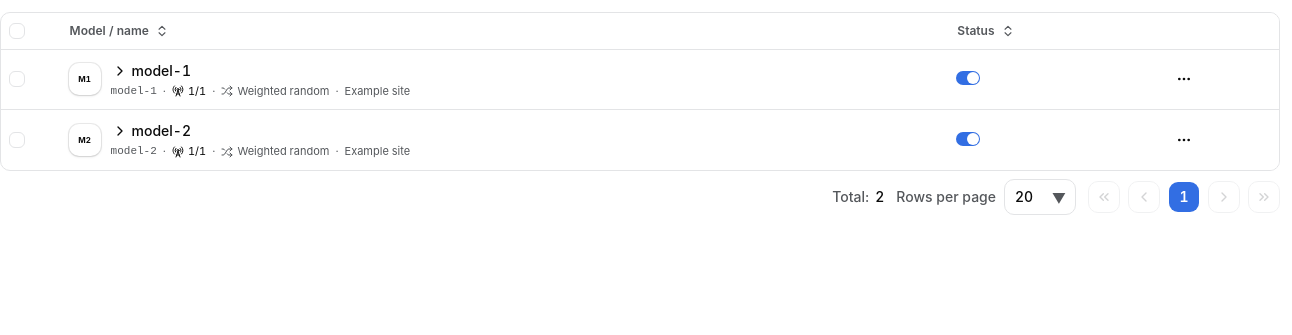
route inline details › shows site, key, compact prices, weight and health as separate signals
Click the button "model-1" at (151, 70), box [111, 60, 192, 82]
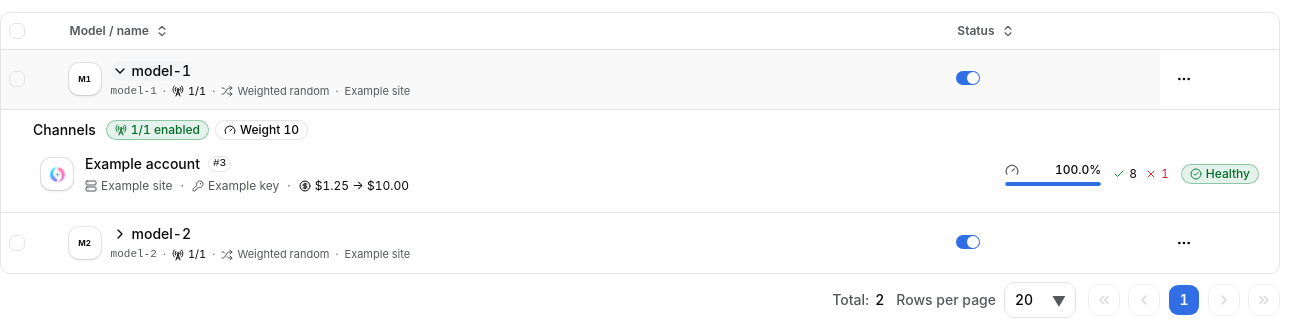
Result: the element named "Channels for model-1" shows "$1.25 → $10.00" at [33, 120, 1267, 202]
Result: the text "Example site" next to "Example key" is shown at [101, 178, 172, 193]
Result: the text "Example key" is shown at [208, 178, 279, 194]
